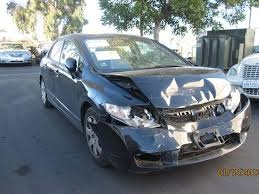Broken-glass: (101, 101, 165, 132)
Dent: (146, 121, 252, 157), (145, 77, 223, 106)
